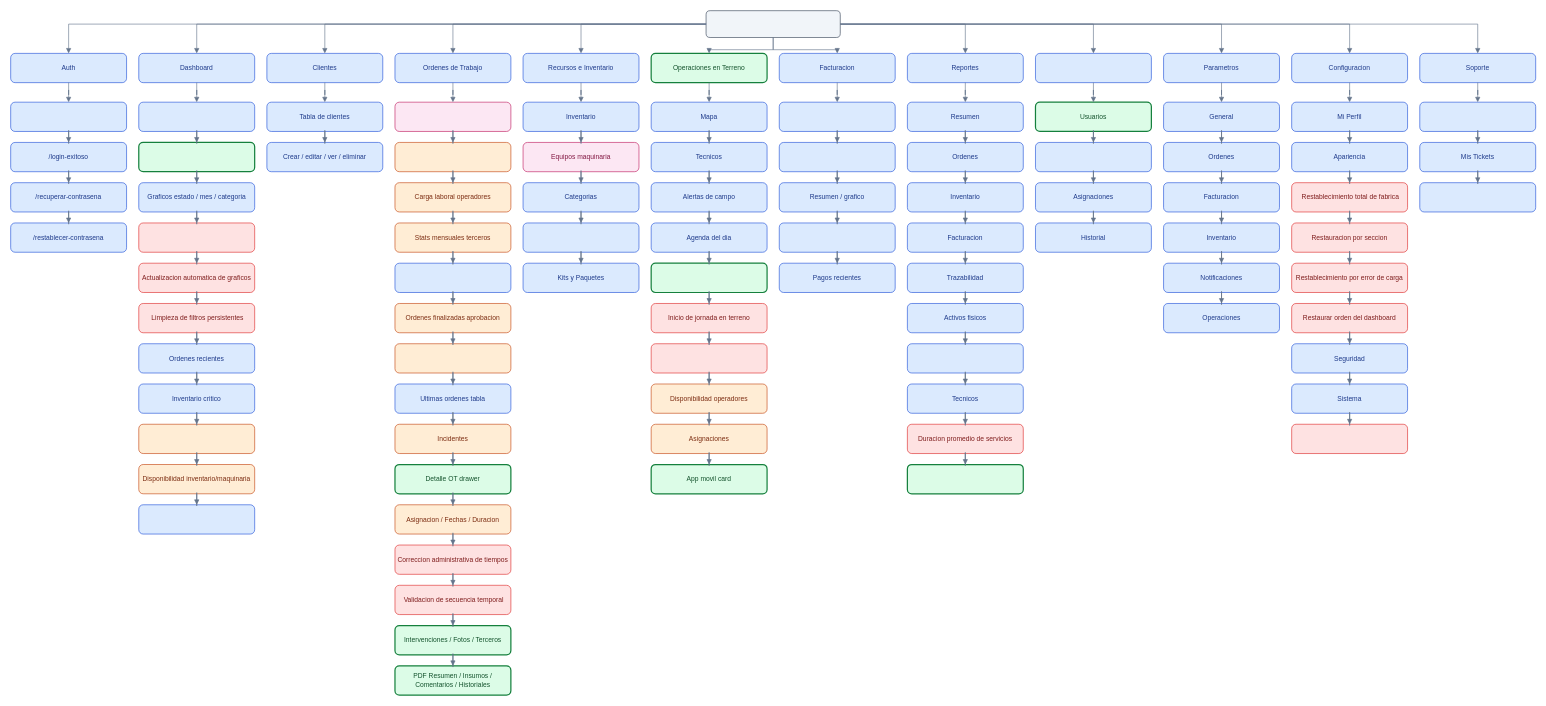
Some shapes in this 1546 by 706 pixel diagram are drawn without their labels. Each missing label, with the centre of its shape:
/login: (x=68, y=116)
Acciones rapidas: (x=196, y=519)
Actualizacion manual del panel: (x=196, y=237)
Alertas de retraso: (x=196, y=157)
Auditoria bitacoras: (x=965, y=479)
Camus LDA - Admin: (x=772, y=24)
Centro de Ayuda: (x=1477, y=116)
Cola de atencion: (x=452, y=157)
Contactar: (x=1477, y=197)
Costos: (x=965, y=358)
Ingresos financieros: (x=196, y=439)
Intervalo de actualizacion: (x=1349, y=439)
Kanban: (x=452, y=277)
KPIs: (x=837, y=116)
KPIs + filtro urgencia + Nueva Orden: (x=452, y=116)
KPIs generales: (x=196, y=116)
Ordenes en terreno: (x=708, y=277)
Proveedores: (x=580, y=237)
Proximos vencimientos: (x=837, y=237)
Roles y Permisos: (x=1093, y=157)
Solicitudes de modificacion: (x=452, y=358)
Tabla de facturas: (x=837, y=157)
Termino de servicio y cierre: (x=709, y=358)
Usuarios y Roles: (x=1093, y=68)
